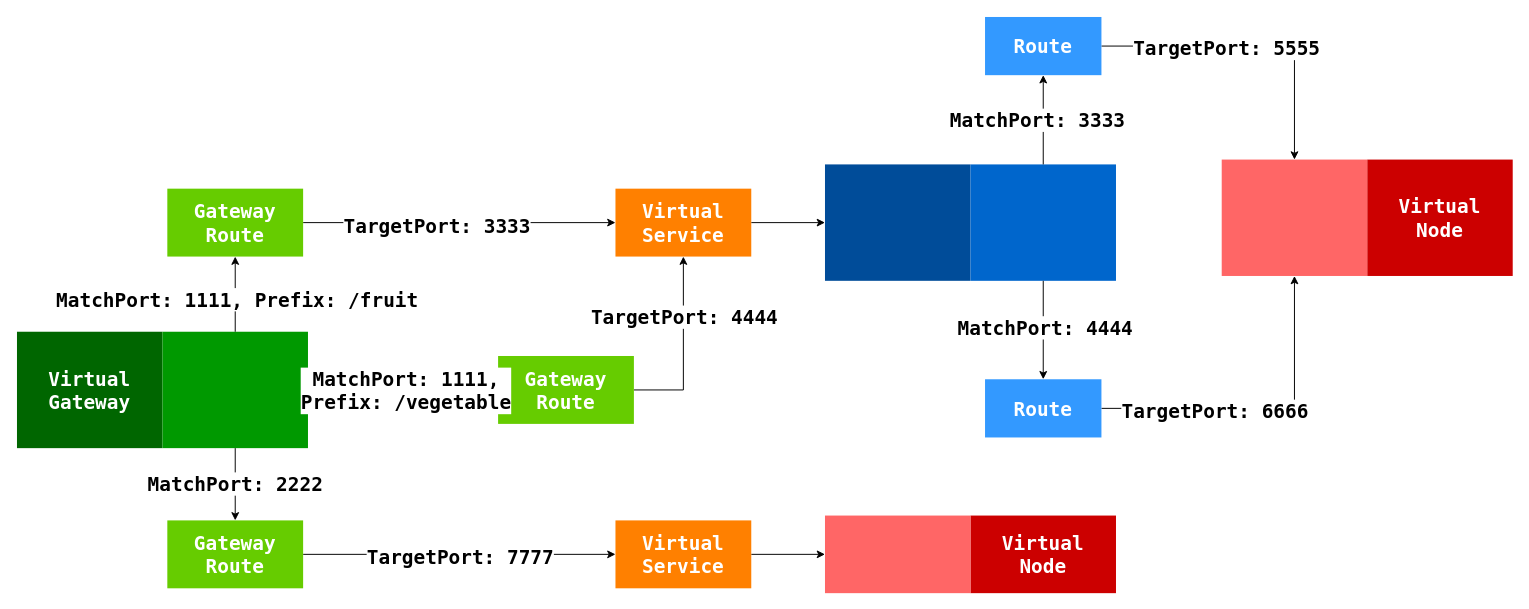
Image size: 1529x609. Some labels were removed from this diagram. The centre of each missing label's shape, as x and y in pixels:
Listener: 1111 Listener: 2222: point 234,389
Listener: 3333 Listener: 4444: point 1043,222
Listener: 5555 Listener: 6666: point 1294,217
Listener: 7777: point 897,554
Virtual Router: point 897,222
